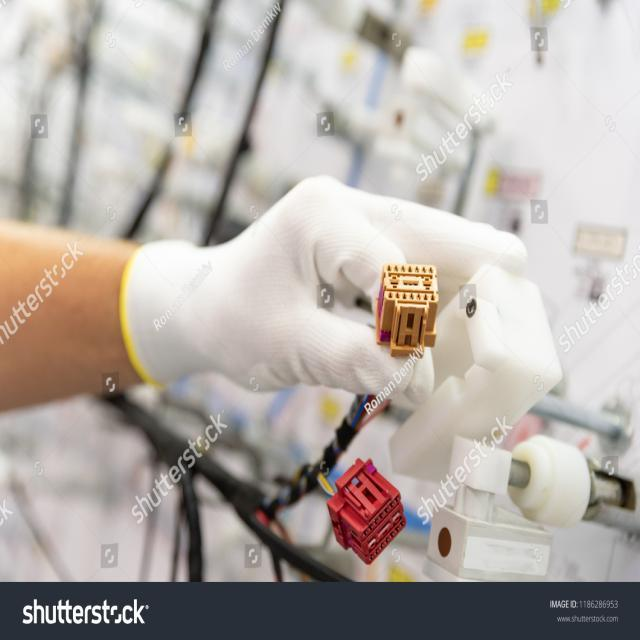cable: (100, 393, 363, 583)
connector: (306, 452, 421, 568), (373, 262, 440, 360)
